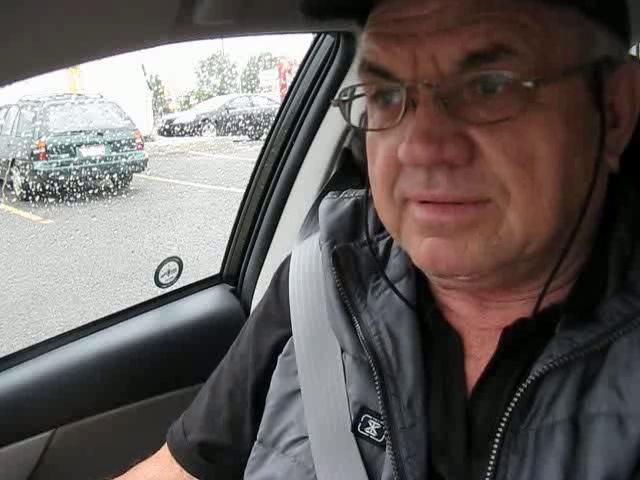no_yawn: (380, 170, 508, 240)
open_eyeL: (344, 70, 424, 131)
open_eyeR: (450, 58, 537, 117)
